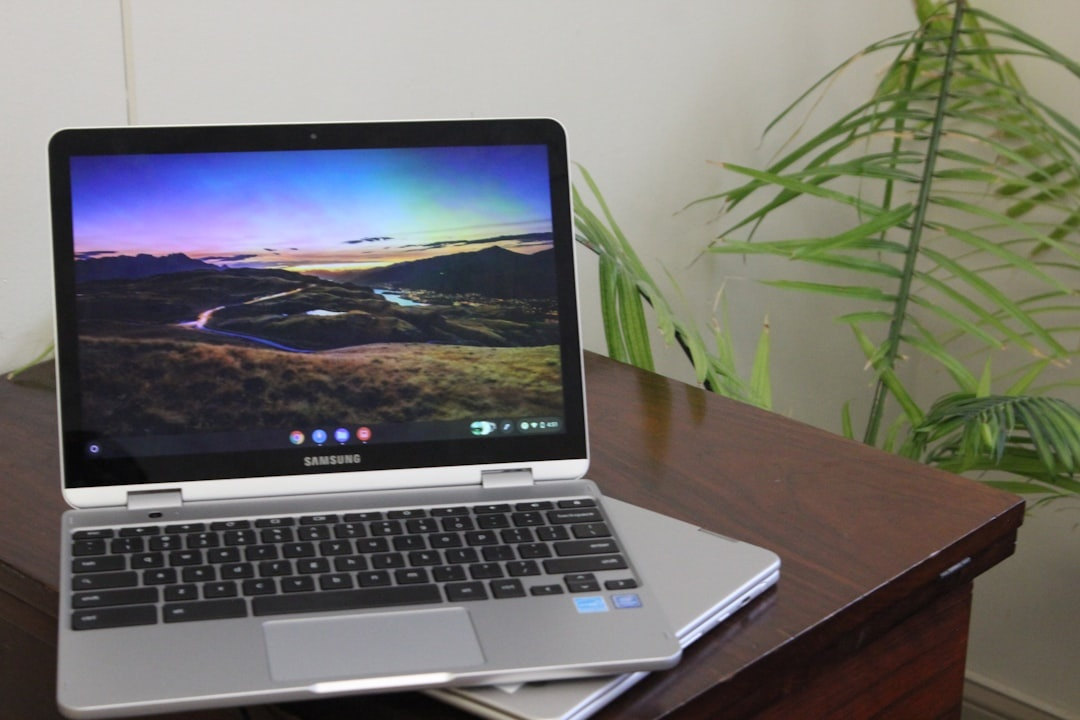laptop: (15, 88, 715, 720)
